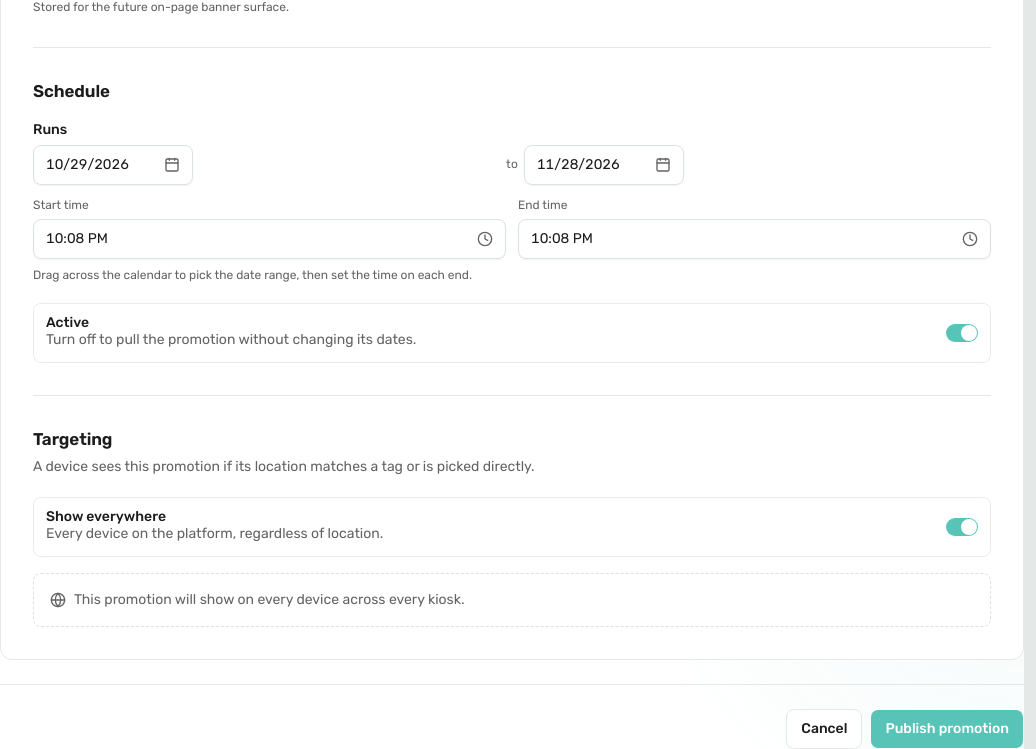
Test: NewPromotionPage targeting › refuses to submit with targeting off but nothing actually targeted
(page scrolled)
Click the switch named "show everywhere" in the row of "Show everywhere".
click(962, 527)  # box [946,518,978,536]
(page scrolled)
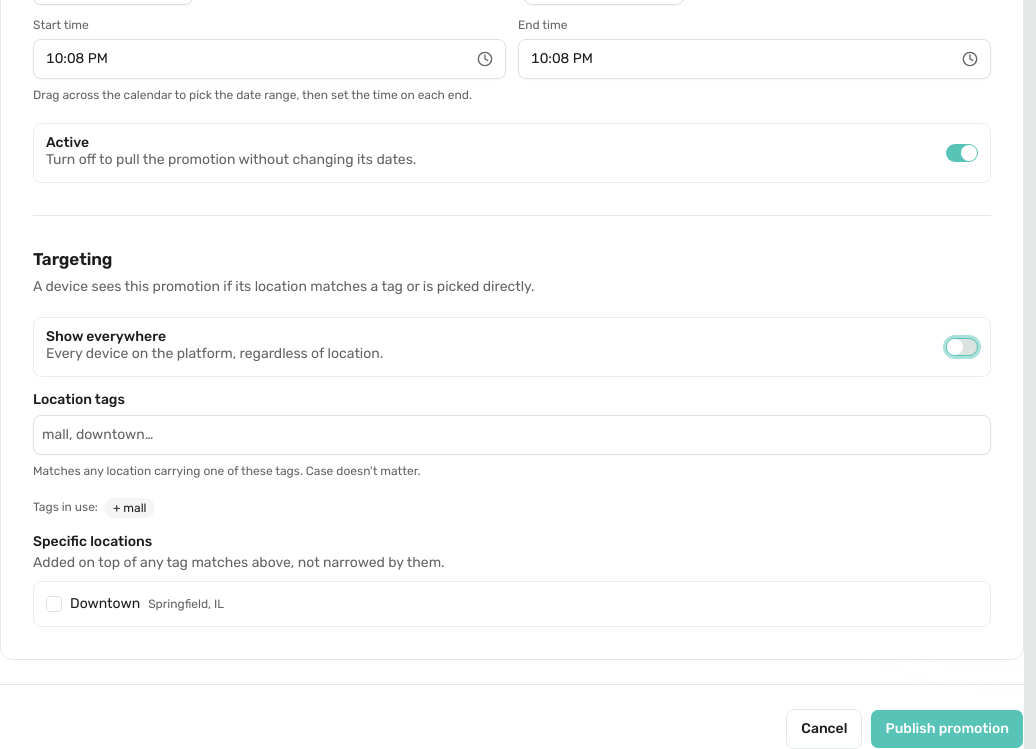
Click the button "Publish promotion".
click(947, 729)  # box [870,709,1024,748]
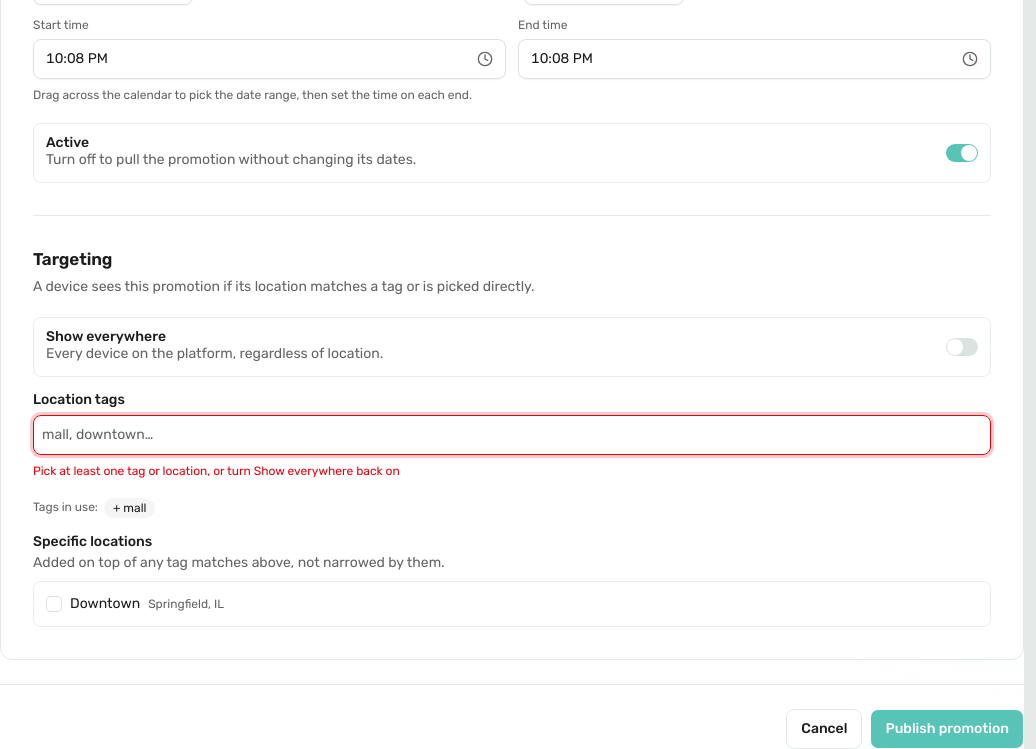
Expected: the text "Pick at least one tag or location" is shown, [33,464,400,478]
